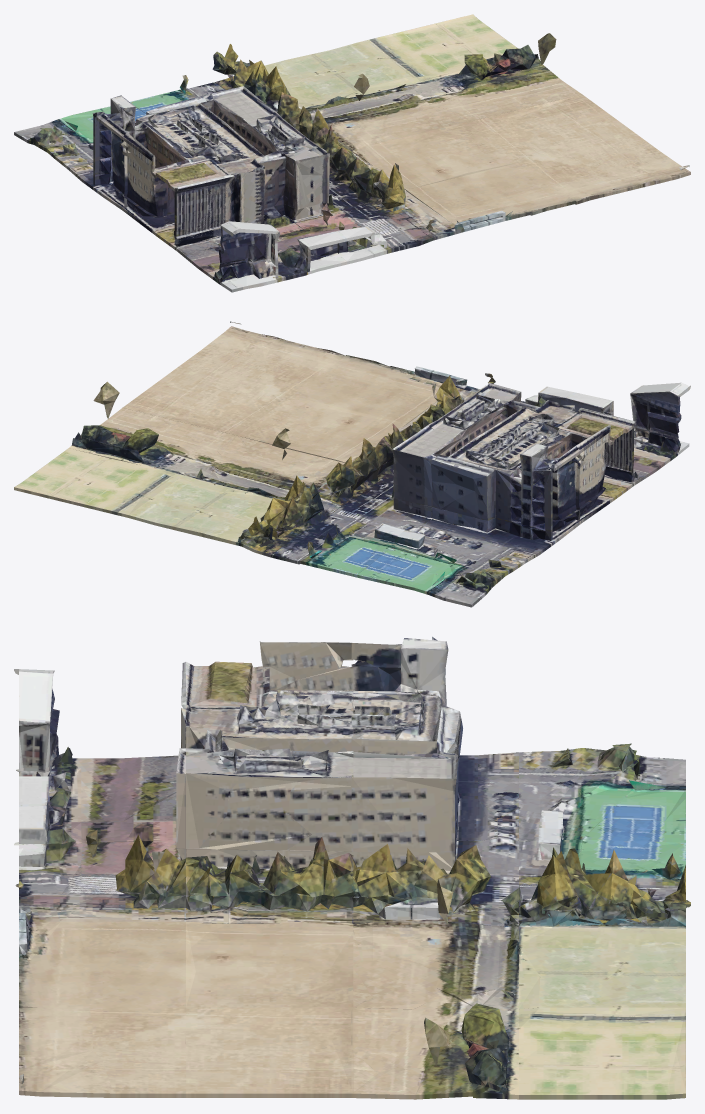
File: Split28.fbx
The picture shows the model from 3 angles, top to bottom: view 1: azimuth 30°, elevation 25°; view 2: azimuth 150°, elevation 25°; view 3: azimuth 270°, elevation 25°; orthographic projection. The views are drawn at different scales.
Parts seen in each view (by area): view 1: BuildingMesh-00157; view 2: BuildingMesh-00157; view 3: BuildingMesh-00157.
Boxes of the visible parts, bbox=[...] form: BuildingMesh-00157: bbox=[14, 14, 690, 292]; BuildingMesh-00157: bbox=[14, 321, 690, 607]; BuildingMesh-00157: bbox=[14, 636, 690, 1099].
Bounding box in the file's own units: 195 × 36.47 × 162.
5 materials, 5 textured.
